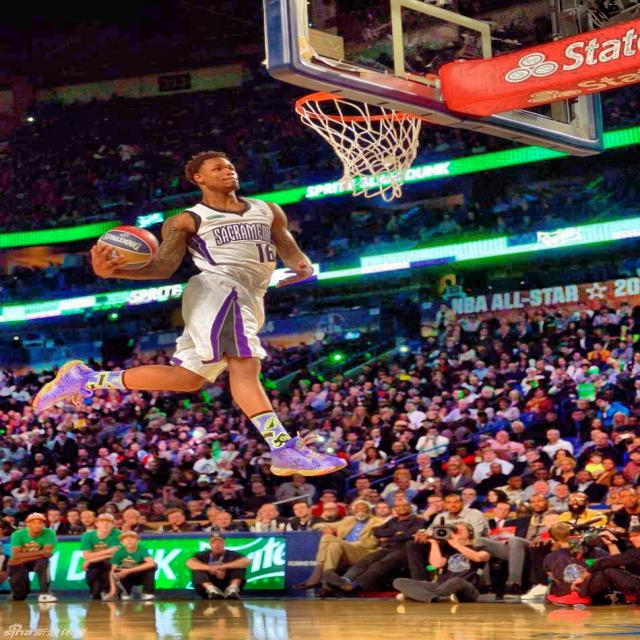rim: (295, 90, 422, 200)
